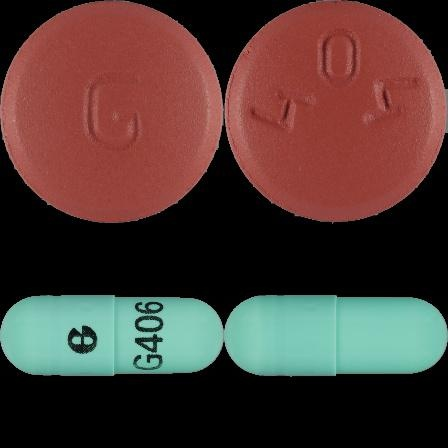68462-404: (0, 0, 224, 224)
